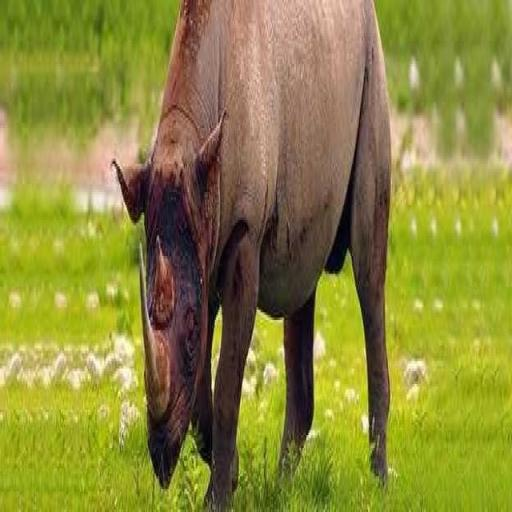Rhino: (110, 0, 393, 510)
